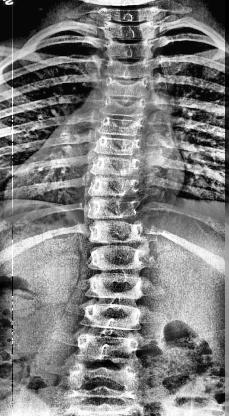Vertebrae: (67, 366, 141, 398), (74, 334, 142, 362), (83, 244, 148, 272), (83, 272, 147, 300), (81, 303, 147, 330), (82, 193, 140, 217), (87, 220, 147, 242), (96, 117, 146, 139), (85, 157, 146, 175), (103, 60, 157, 80), (103, 39, 155, 59), (102, 20, 156, 38), (101, 77, 149, 97), (85, 178, 143, 194), (99, 100, 150, 118), (93, 139, 143, 156)
